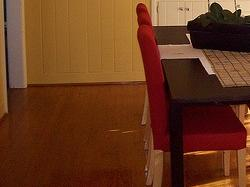chair: (138, 24, 249, 187)
diningtable: (154, 22, 250, 187)
pottedplant: (187, 0, 250, 55)
